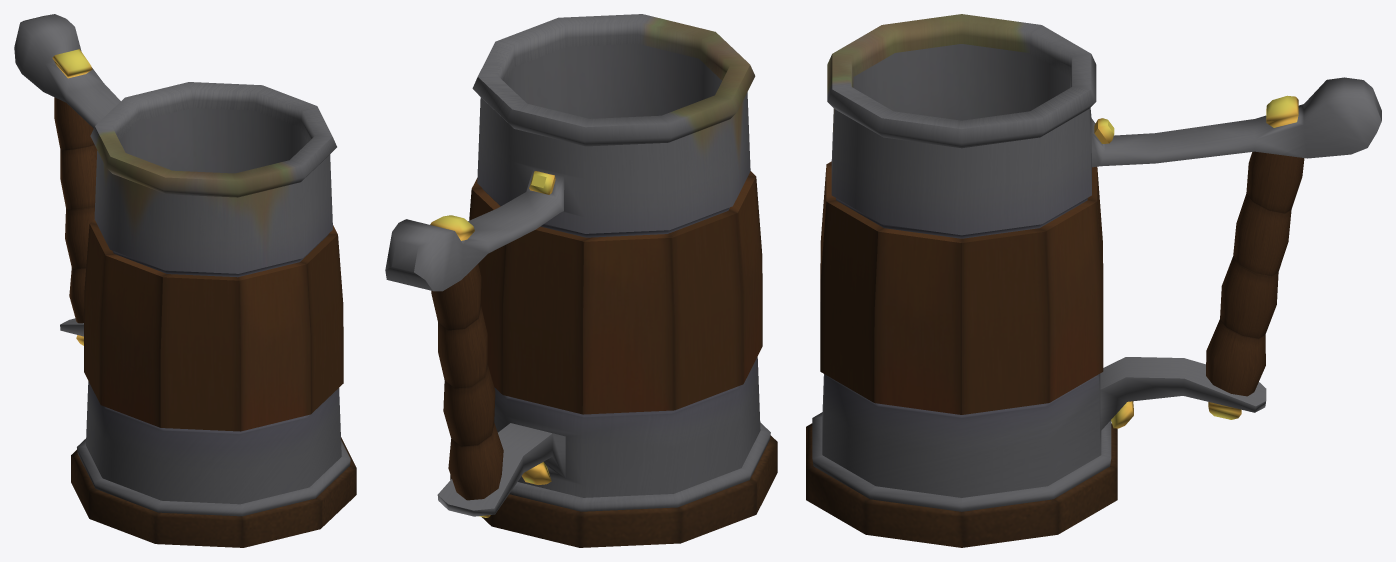
File: P3D_Mug.fbx
3 views of the same model, side by side, from view 1: azimuth 30°, elevation 25°; view 2: azimuth 150°, elevation 25°; view 3: azimuth 270°, elevation 25° (orthographic). The views are drawn at different scales.
Parts seen in each view (by area): view 1: P3D_Mug; view 2: P3D_Mug; view 3: P3D_Mug.
Boxes of the visible parts, x1,y1,x2,y2 form: P3D_Mug: (14, 14, 356, 547); P3D_Mug: (385, 14, 777, 547); P3D_Mug: (806, 14, 1381, 547).
Size of the model in its own units: 16.03 by 21.99 by 28.18.
Materials: 3 (3 with a texture image).
